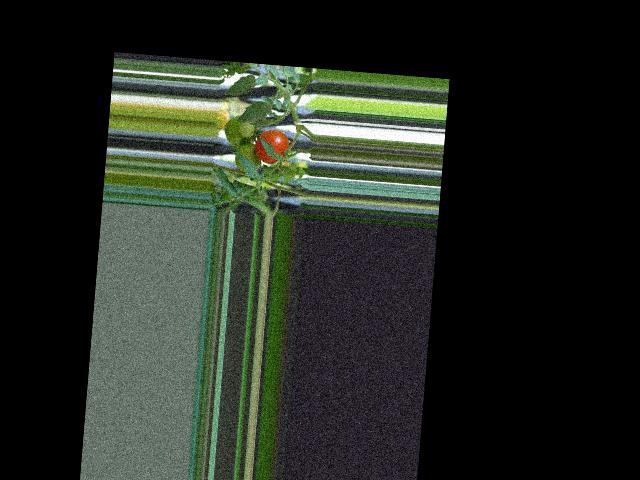tomato: (254, 128, 290, 164)
